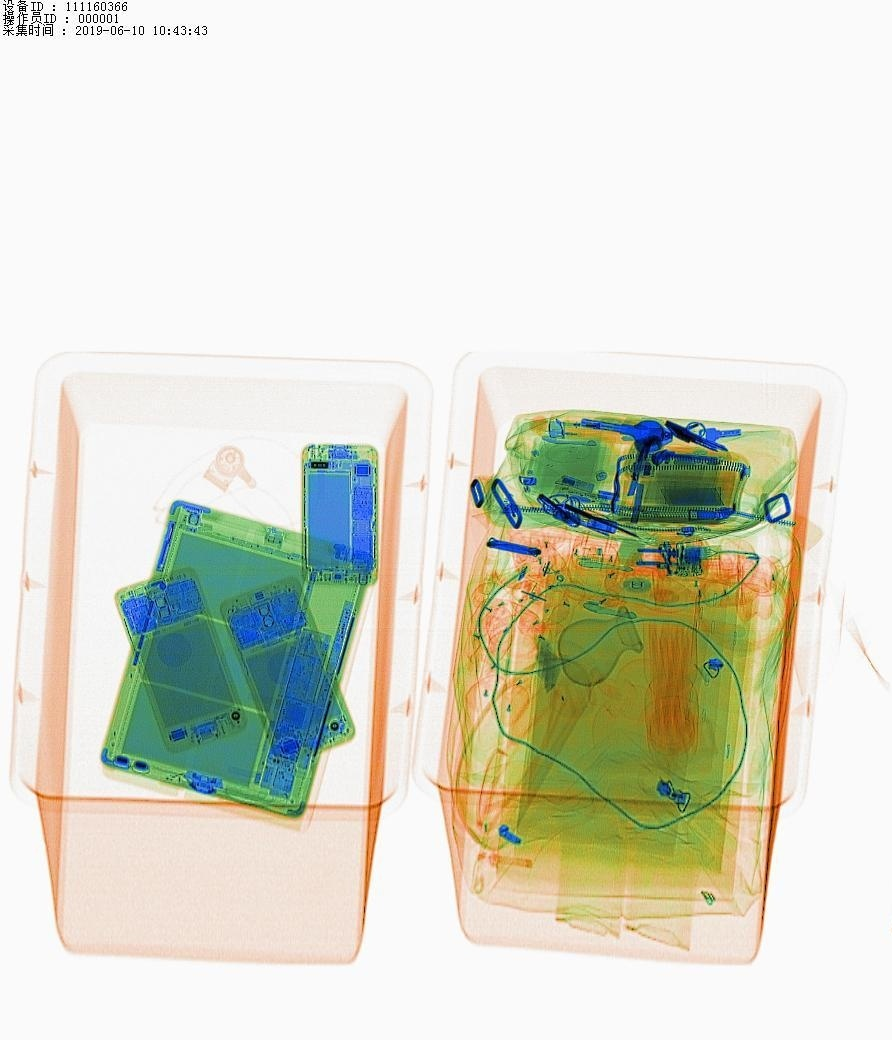NonmetallicFire: (520, 413, 661, 454)
